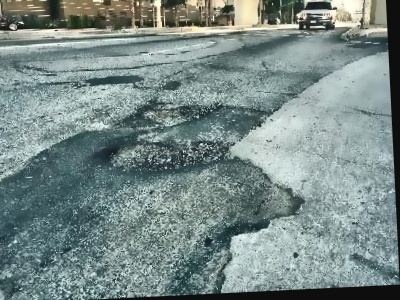pothole: (103, 134, 237, 178), (139, 99, 228, 128)
